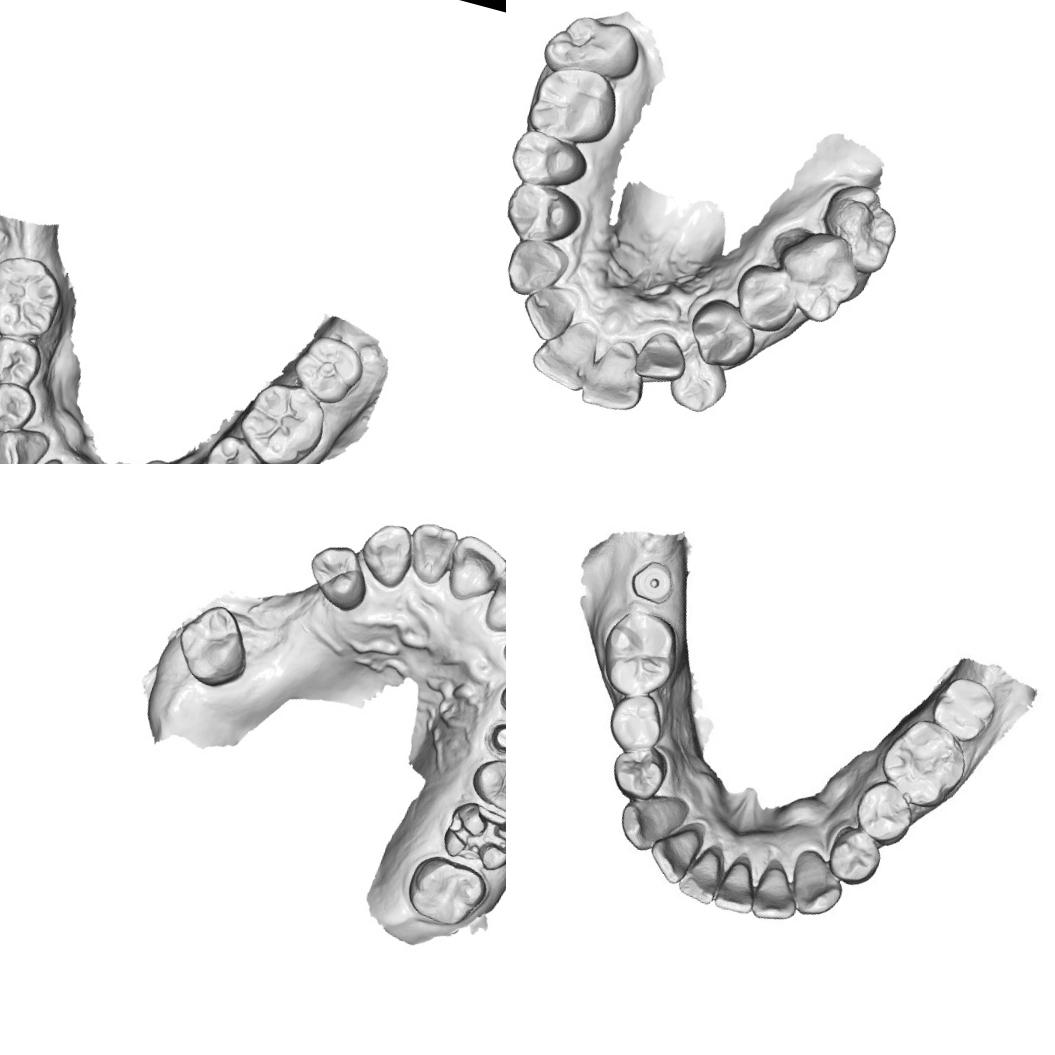canine: (613, 784, 692, 860), (781, 844, 851, 923), (352, 516, 420, 592), (662, 348, 734, 419), (506, 232, 574, 306), (0, 419, 52, 464)
crown: (482, 716, 506, 768)
implant: (627, 554, 678, 606)
incisor: (574, 330, 656, 418), (524, 309, 602, 397), (439, 530, 506, 609), (514, 277, 582, 348), (399, 518, 460, 588), (630, 323, 694, 387), (643, 820, 703, 888), (746, 862, 805, 928), (674, 842, 726, 906), (712, 857, 763, 917), (480, 564, 506, 642), (13, 449, 70, 464)
inlay: (437, 796, 506, 877)
molar: (767, 222, 872, 331), (873, 710, 974, 814), (810, 176, 908, 280), (593, 602, 688, 705), (524, 57, 626, 152), (229, 372, 334, 464), (537, 6, 645, 92), (168, 595, 260, 695), (399, 848, 494, 935), (0, 246, 71, 347), (284, 328, 370, 411), (926, 672, 1000, 748)
premolar: (506, 173, 589, 256), (680, 291, 763, 374), (725, 256, 803, 340), (506, 123, 594, 197), (298, 536, 378, 616), (848, 774, 919, 850), (601, 686, 669, 759), (605, 737, 672, 805), (822, 822, 886, 890), (0, 328, 47, 392), (197, 428, 274, 464), (0, 375, 41, 441), (465, 752, 506, 818)
